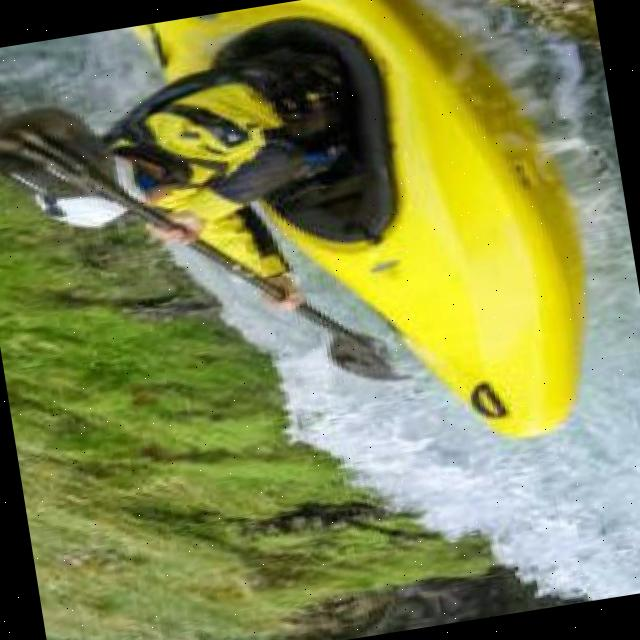kayak: (142, 0, 579, 435)
